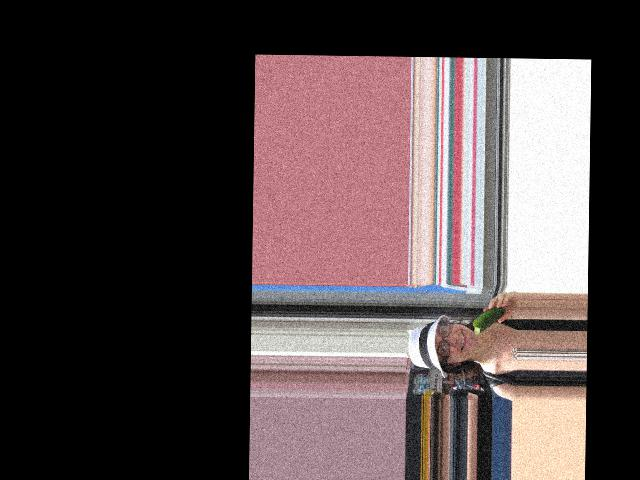cucumber: (473, 305, 505, 334)
